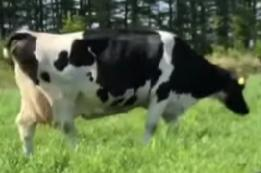cow: (12, 28, 249, 155)
